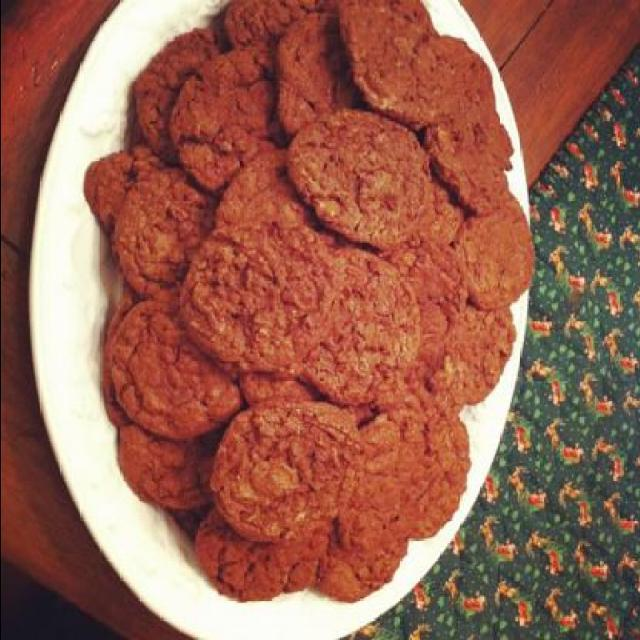Cookie: (79, 1, 539, 604), (274, 104, 437, 233)
